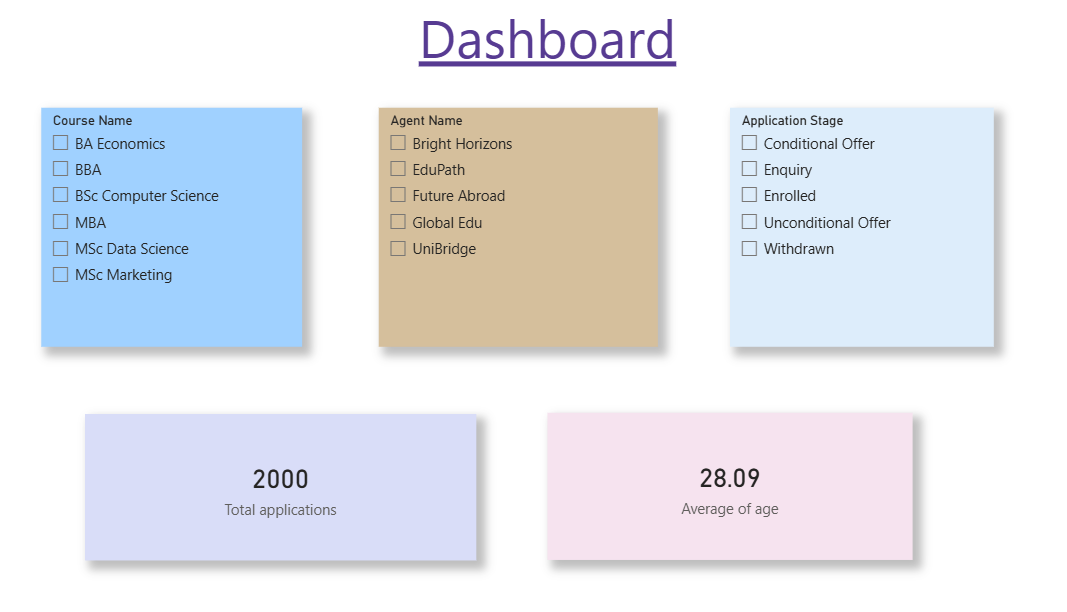

What the dashboard file says about the page in this screenshot:
{"tool":"powerbi","page":{"name":"Summary","canvas":[1280,720],"ordinal":1},"visuals":[{"type":"card","fields":{"Values":["University.Total applications"]},"box":[131.7,477.5,429.5,160.5],"z":0},{"type":"textbox","box":[16.5,19.2,1246,87.8],"z":1000},{"type":"slicer","fields":{"Values":["University.Course Name"]},"box":[83.7,141.3,286.8,262.1],"z":2000},{"type":"slicer","fields":{"Values":["University.Agent Name"]},"box":[454.2,141.3,306,262.1],"z":3000},{"type":"actionButton","box":[0,0,100,40],"z":4000},{"type":"slicer","fields":{"Values":["University.Application Stage"]},"box":[839.8,141.3,289.5,262.1],"z":5000},{"type":"card","fields":{"Values":["Avg(University.age)"]},"box":[639.5,476.2,400.7,161.9],"z":6000}]}

Visuals, with their boxes in screenshot pixels (x1, y1, x2, y2), scaled from the page's 1280x720 canvas onto the 1067x612 screenshot:
card - University.Total applications: [110, 406, 468, 542]
textbox: [14, 16, 1052, 91]
slicer - University.Course Name: [70, 120, 309, 343]
slicer - University.Agent Name: [379, 120, 634, 343]
actionButton: [0, 0, 83, 34]
slicer - University.Application Stage: [700, 120, 941, 343]
card - Avg(University.age): [533, 405, 867, 542]
